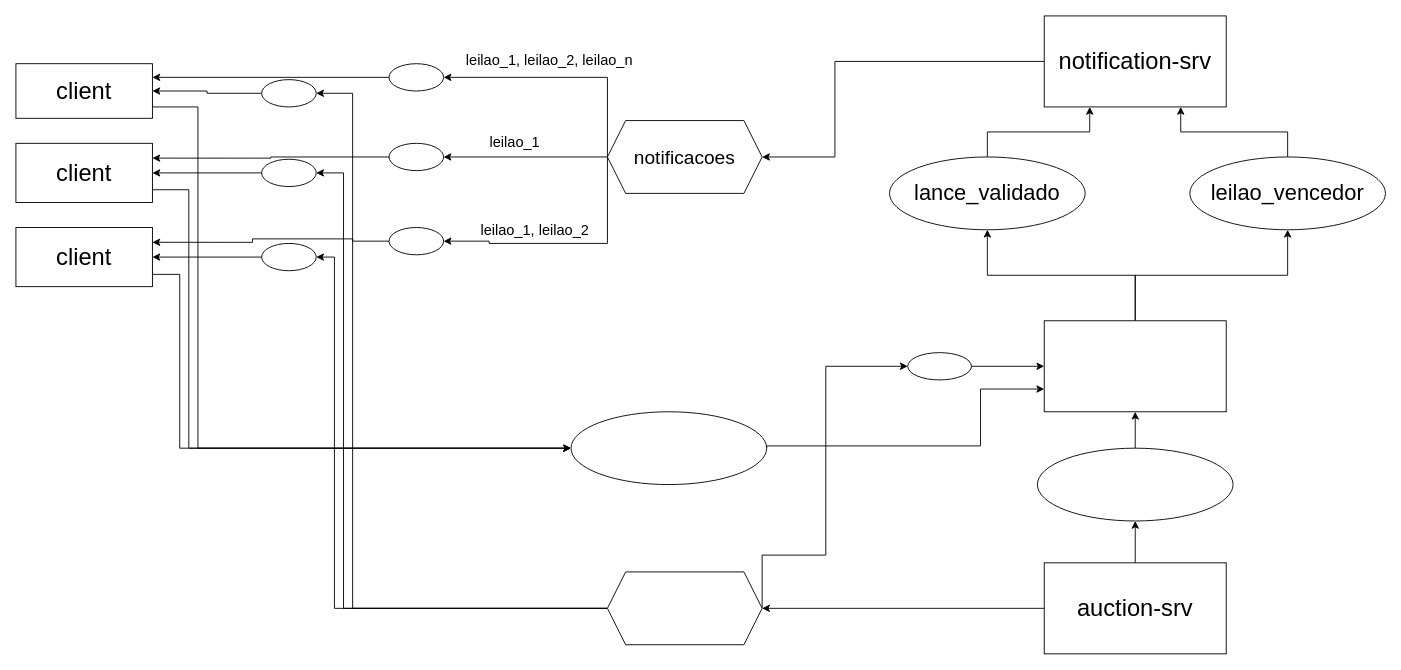
This 1401x670 diagram has some shape labels left out. The centre of each missing label's shape, as x and y in pixels:
"bid-srv" goes at point 1134,366.
"lance_realizado" goes at point 668,448.
"leilao_finalizado" goes at point 1134,484.
"leilao_iniciado" goes at point 684,608.
